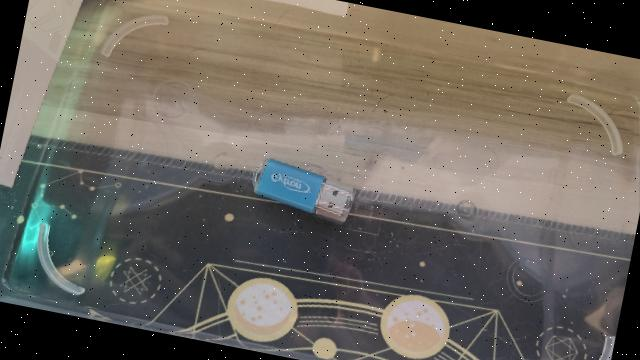sdcard_reader: (247, 154, 360, 225)
